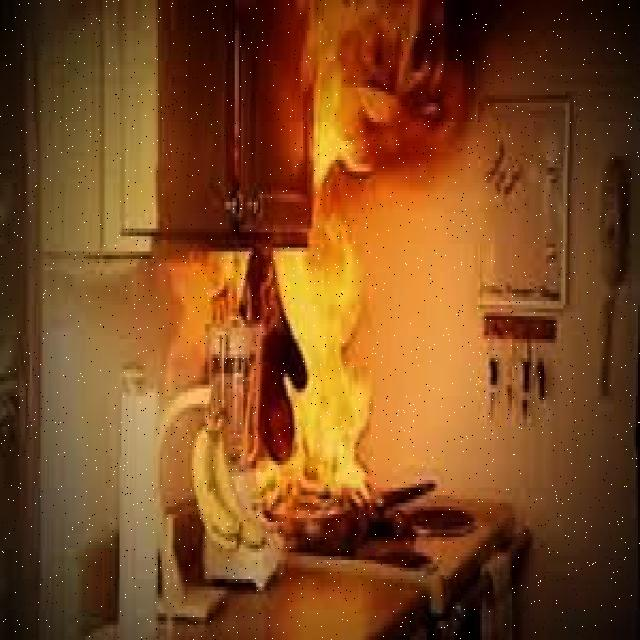fire: (276, 250, 381, 512)
